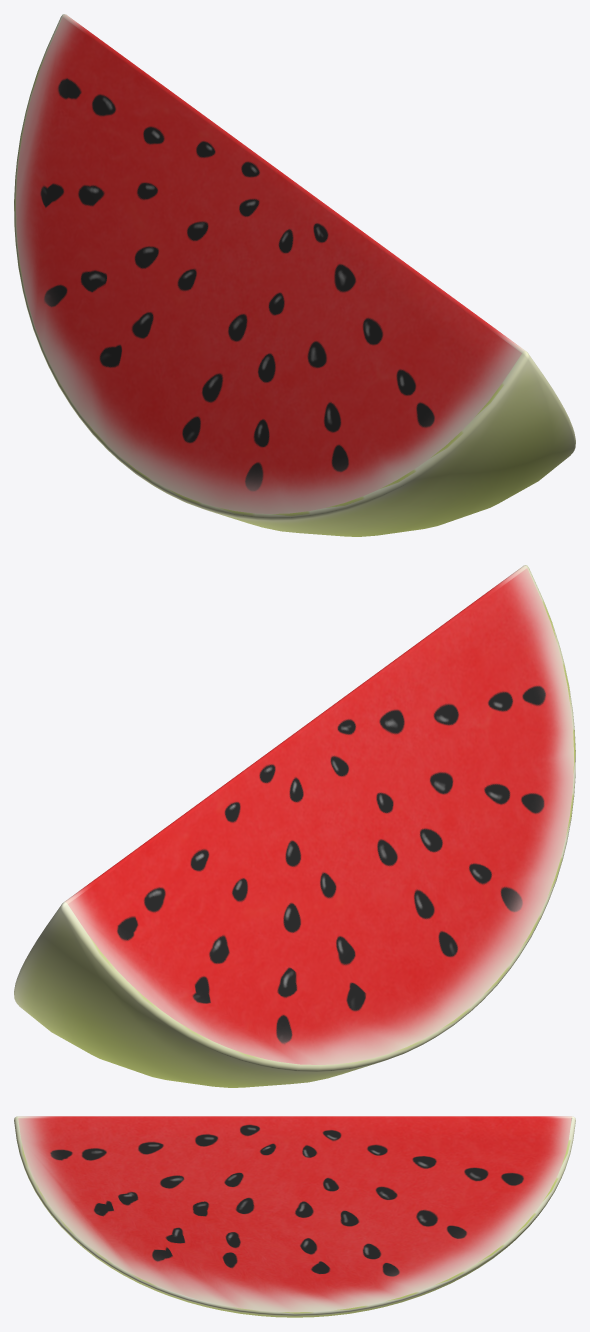
Rendered from watermelon.fbx.
The picture shows the model from 3 angles, top to bottom: view 1: azimuth 30°, elevation 25°; view 2: azimuth 150°, elevation 25°; view 3: azimuth 270°, elevation 25°; orthographic projection. The views are drawn at different scales.
Parts seen in each view (by area): view 1: Sphere; view 2: Sphere; view 3: Sphere.
Boxes of the visible parts, x1,y1,x2,y2 form: Sphere: (14,14,575,536); Sphere: (14,565,575,1087); Sphere: (14,1116,575,1317).
Size of the model in its own units: 109 by 98.78 by 276.
